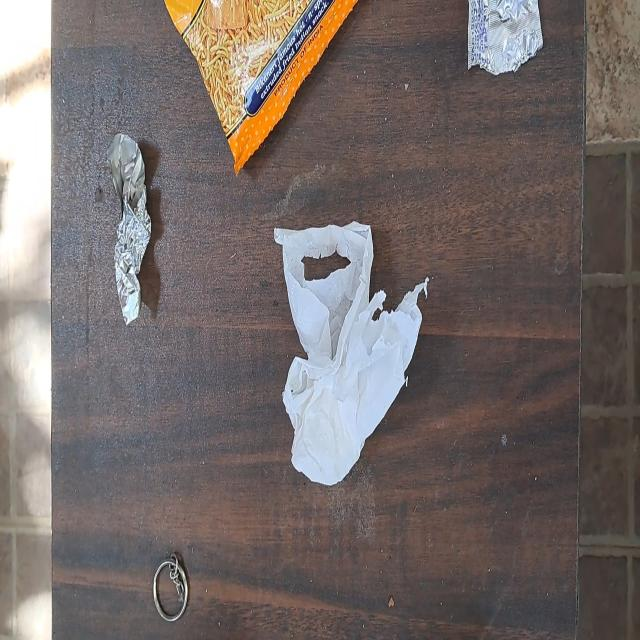Anorganik: (156, 0, 393, 181), (101, 123, 165, 345), (452, 0, 550, 98), (143, 539, 201, 631)
Organik: (270, 208, 438, 508)
